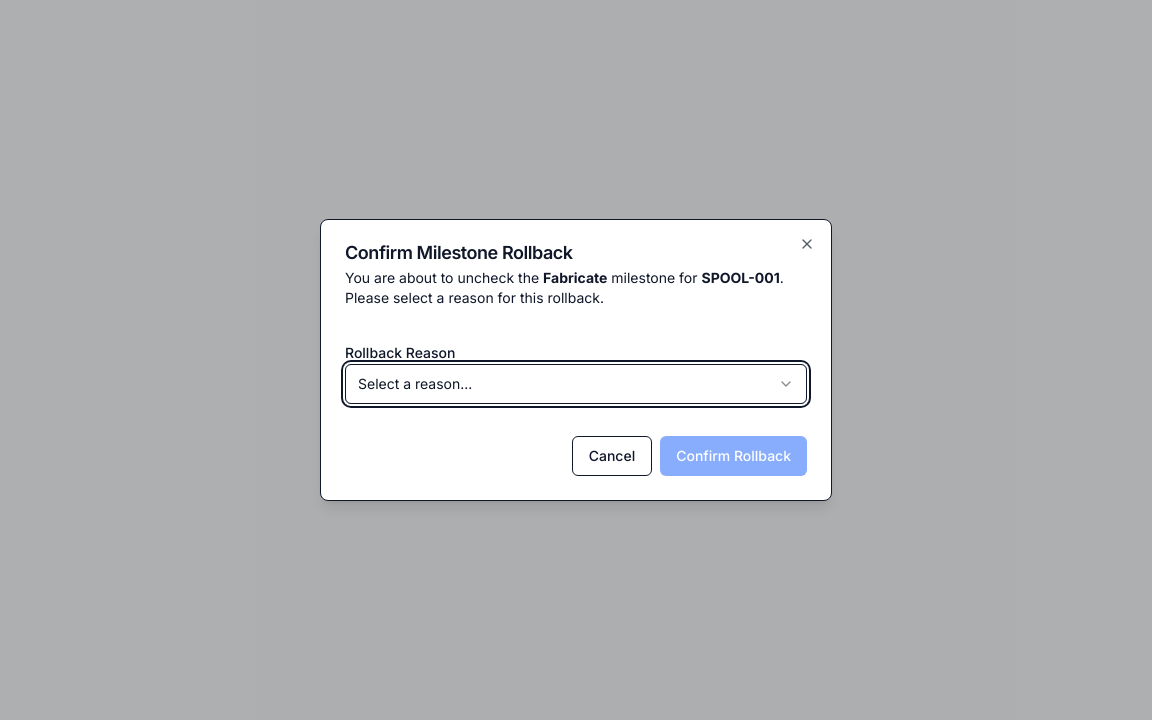
RollbackConfirmationModal › Button States › should enable confirm when "Other" selected with 10+ chars
This screenshot has width=1152, height=720.
Click the dropdown: (415, 384) [345, 364, 807, 404]
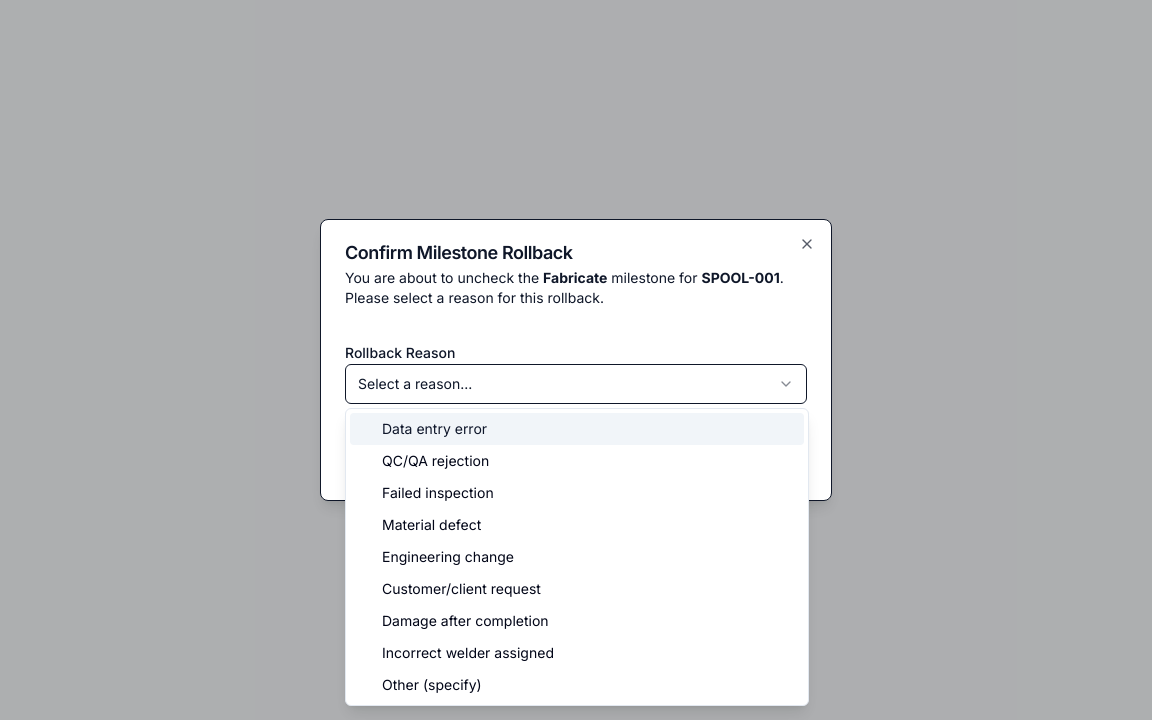
Click the option "Other (specify)": (432, 684) [382, 676, 482, 693]
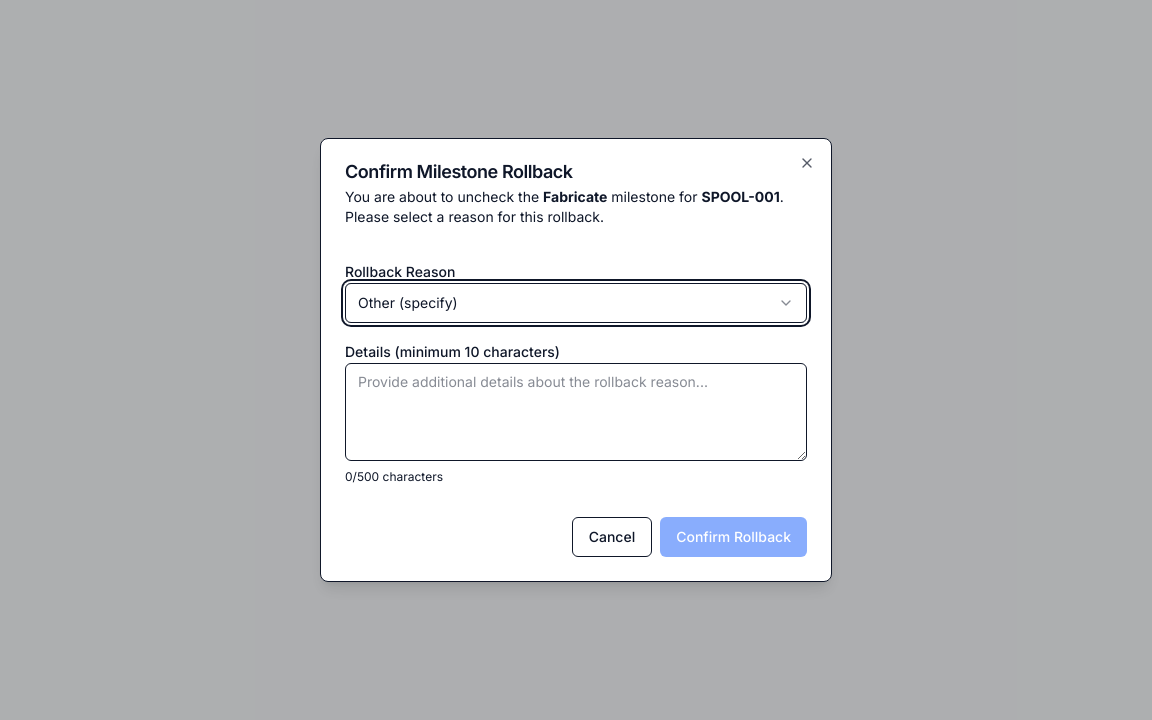
In the text box with placeholder "Provide additional details about the rollback reason...": (576, 412) [345, 363, 807, 461], type "This is a valid reason with enough characters"
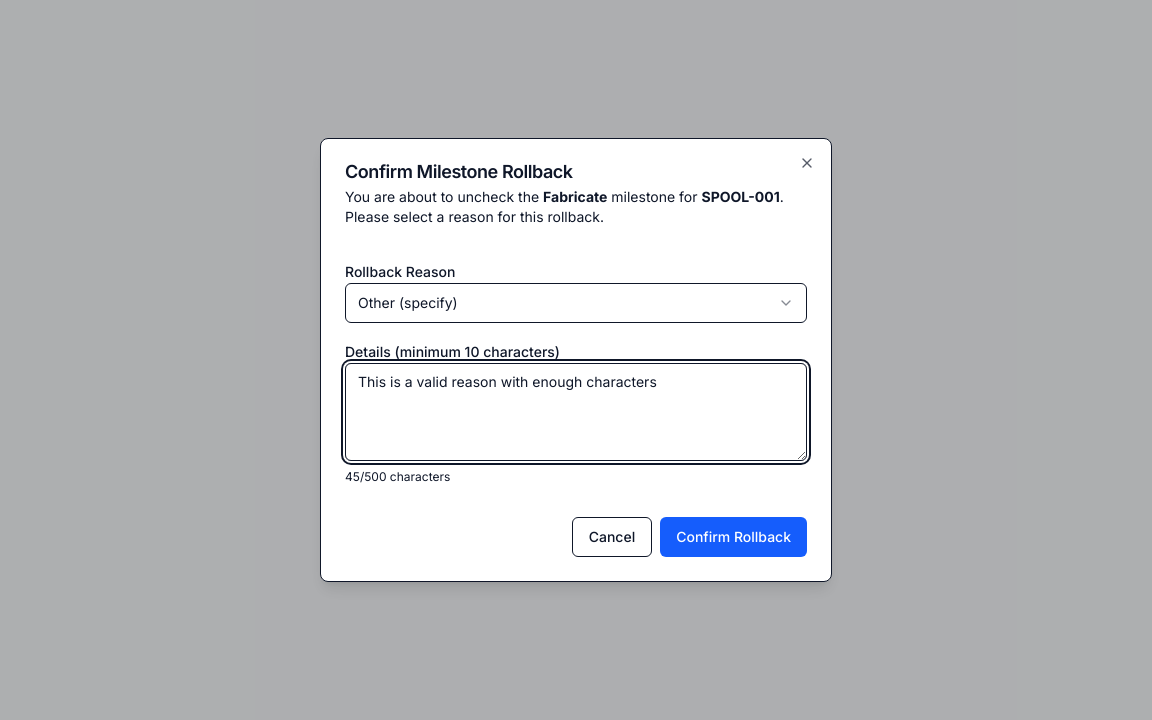
Expected: the button "Confirm Rollback" is enabled, [660, 517, 807, 557]
